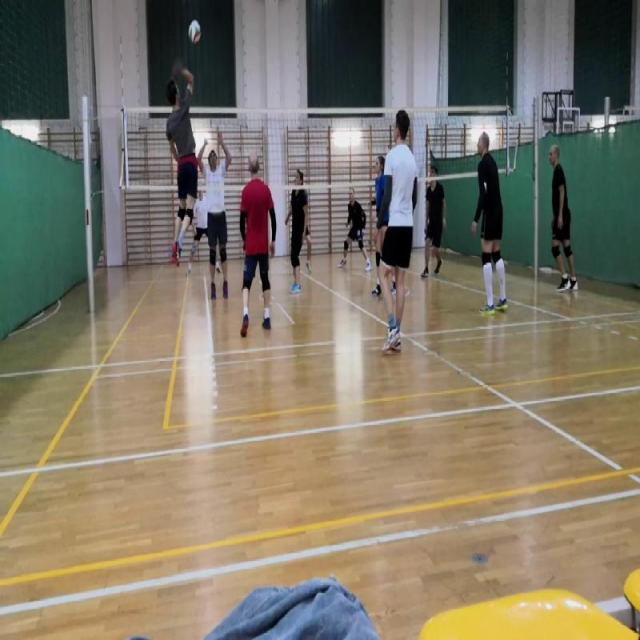volleyball: (188, 20, 200, 42)
